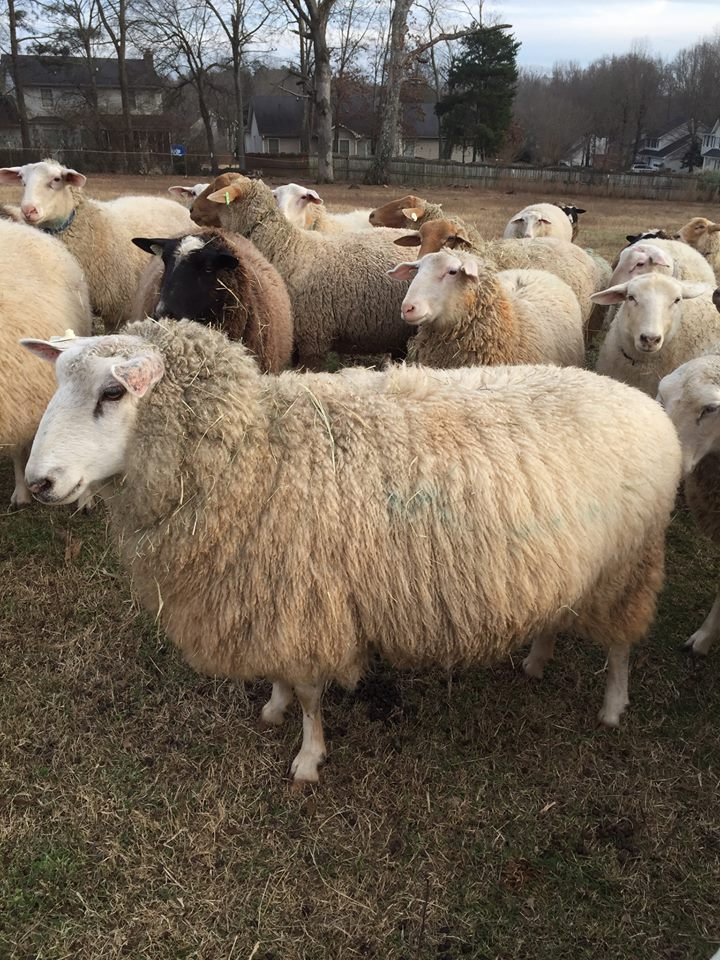sheep: (34, 329, 665, 758), (183, 177, 423, 345), (10, 158, 206, 340), (413, 277, 600, 419), (402, 209, 635, 298), (157, 235, 310, 367), (609, 277, 720, 409), (596, 219, 716, 303)
